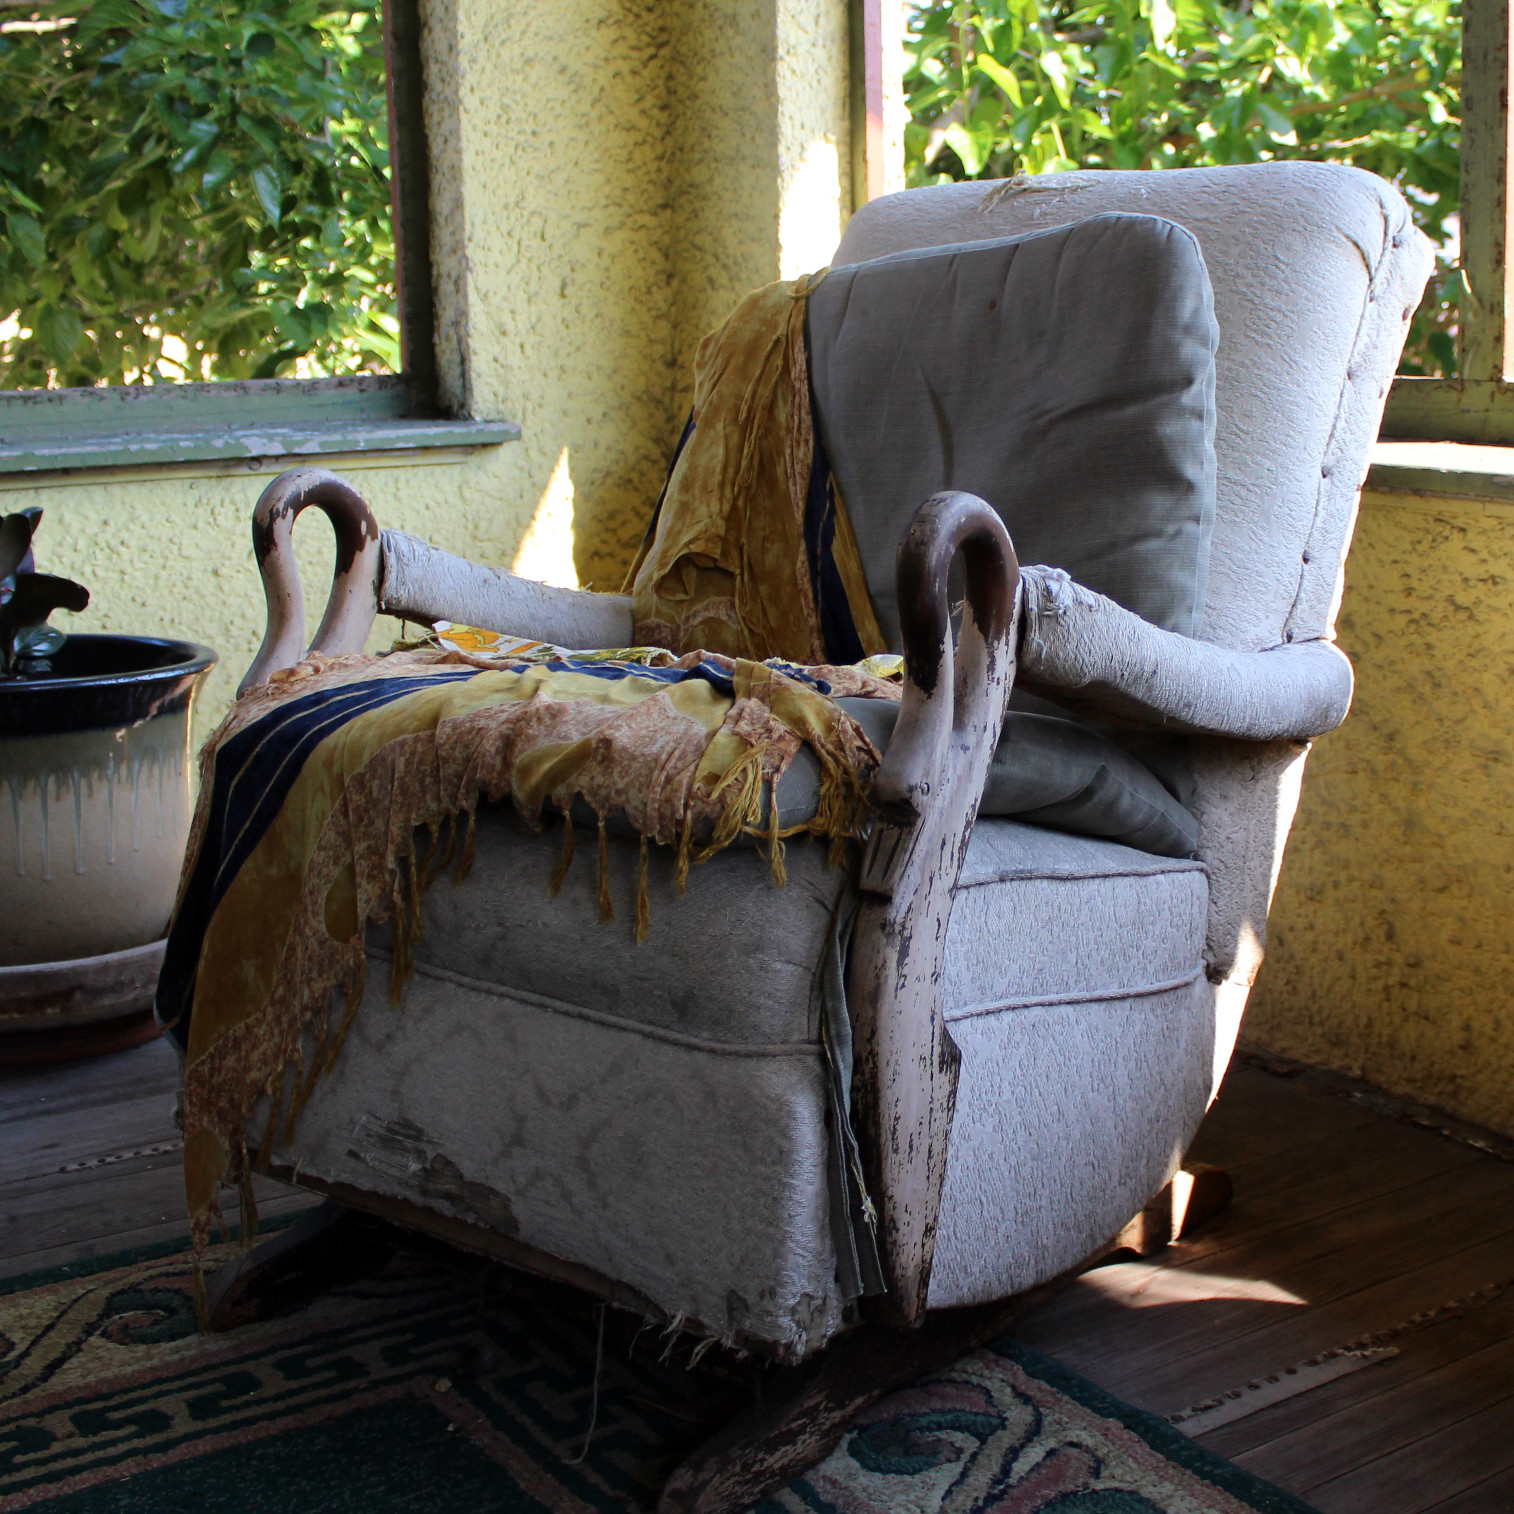chair: (72, 146, 1452, 1434)
